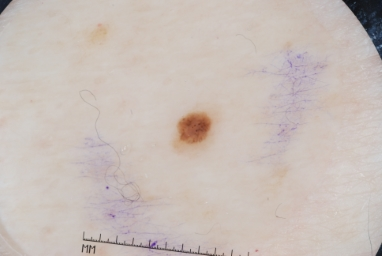seborrheic keratosis: (149, 79, 236, 181)
